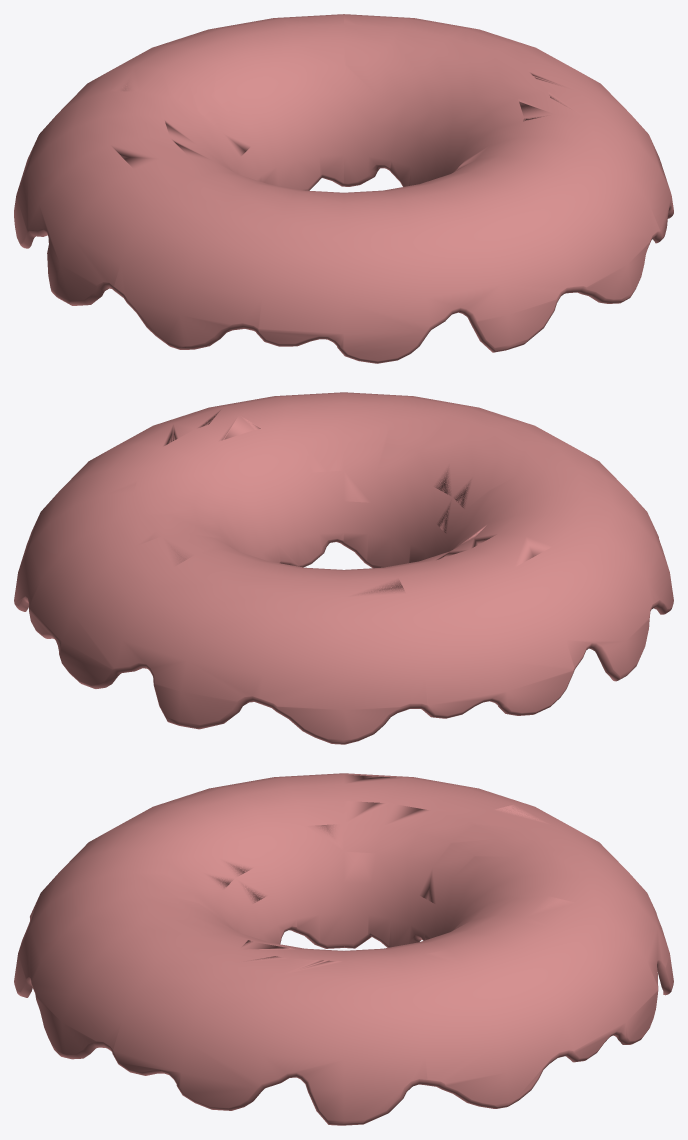
Rendered from donut2_frost.dae.
The picture shows the model from 3 angles, top to bottom: view 1: azimuth 30°, elevation 25°; view 2: azimuth 150°, elevation 25°; view 3: azimuth 270°, elevation 25°; orthographic projection.
Visible parts, largest first — view 1: group_0; view 2: group_0; view 3: group_0.
Boxes of the visible parts, left/top/right/bottom form: group_0: left=14, top=14, right=673, bottom=363; group_0: left=14, top=392, right=673, bottom=744; group_0: left=14, top=773, right=673, bottom=1125.
Size of the model in its own units: 0.131 by 0.131 by 0.0254.
